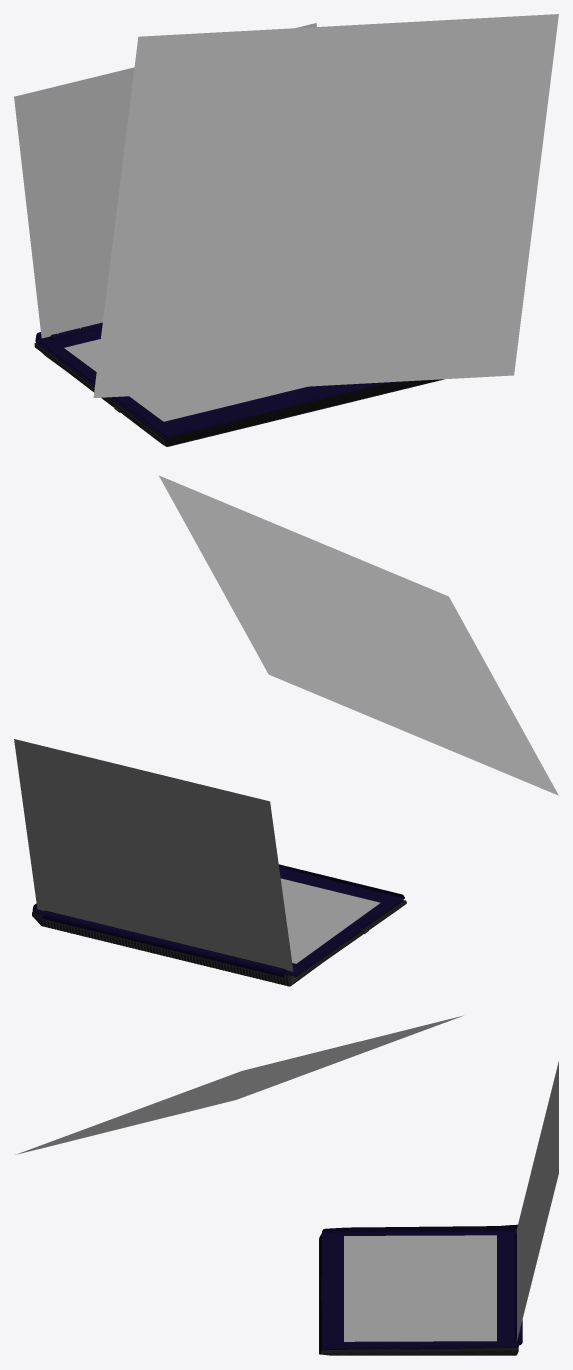
Rendered from bedroom_laptop.obj.
3 renders of one model, top to bottom at view 1: azimuth 30°, elevation 25°; view 2: azimuth 150°, elevation 25°; view 3: azimuth 270°, elevation 25°, orthographic. The views are drawn at different scales.
Parts seen in each view (by area): view 1: Plane.028_Plane.024, Plane.075_Plane.086, Plane.002_Plane.001, Plane.005_Plane.004; view 2: Plane.028_Plane.024, Plane.075_Plane.086, Plane.002_Plane.001, Plane.005_Plane.004; view 3: Plane.002_Plane.001, Plane.028_Plane.024, Plane.075_Plane.086, Plane.005_Plane.004.
Part boxes in pixels (x1=…): Plane.028_Plane.024: x1=93, y1=14, x2=558, y2=397; Plane.075_Plane.086: x1=14, y1=23, x2=316, y2=338; Plane.002_Plane.001: x1=35, y1=327, x2=393, y2=438; Plane.005_Plane.004: x1=34, y1=322, x2=443, y2=446; Plane.028_Plane.024: x1=159, y1=475, x2=558, y2=795; Plane.075_Plane.086: x1=14, y1=739, x2=293, y2=971; Plane.002_Plane.001: x1=32, y1=864, x2=404, y2=976; Plane.005_Plane.004: x1=32, y1=900, x2=406, y2=986; Plane.002_Plane.001: x1=321, y1=1224, x2=518, y2=1348; Plane.028_Plane.024: x1=15, y1=1015, x2=463, y2=1154; Plane.075_Plane.086: x1=516, y1=1061, x2=558, y2=1341; Plane.005_Plane.004: x1=319, y1=1233, x2=522, y2=1355.
Size of what is drawn, in the model's own units: 10.6 by 8.46 by 13.92.
12 materials, 1 textured.
